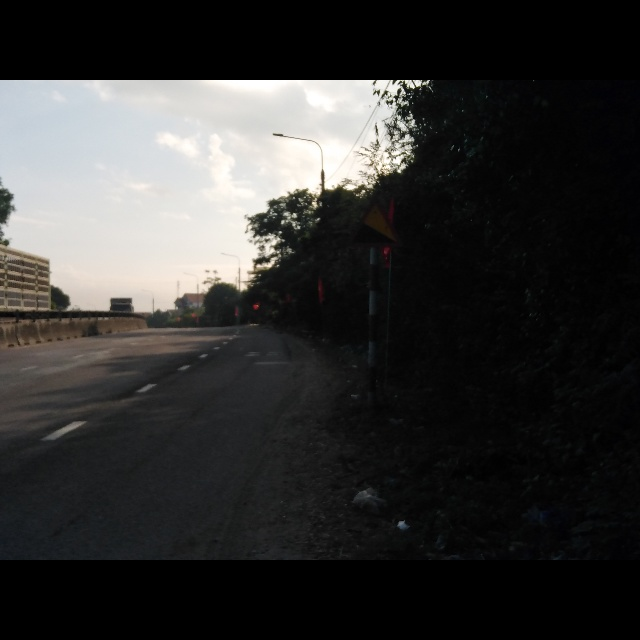Dốc lên nguy hiểm: (348, 194, 407, 250)
